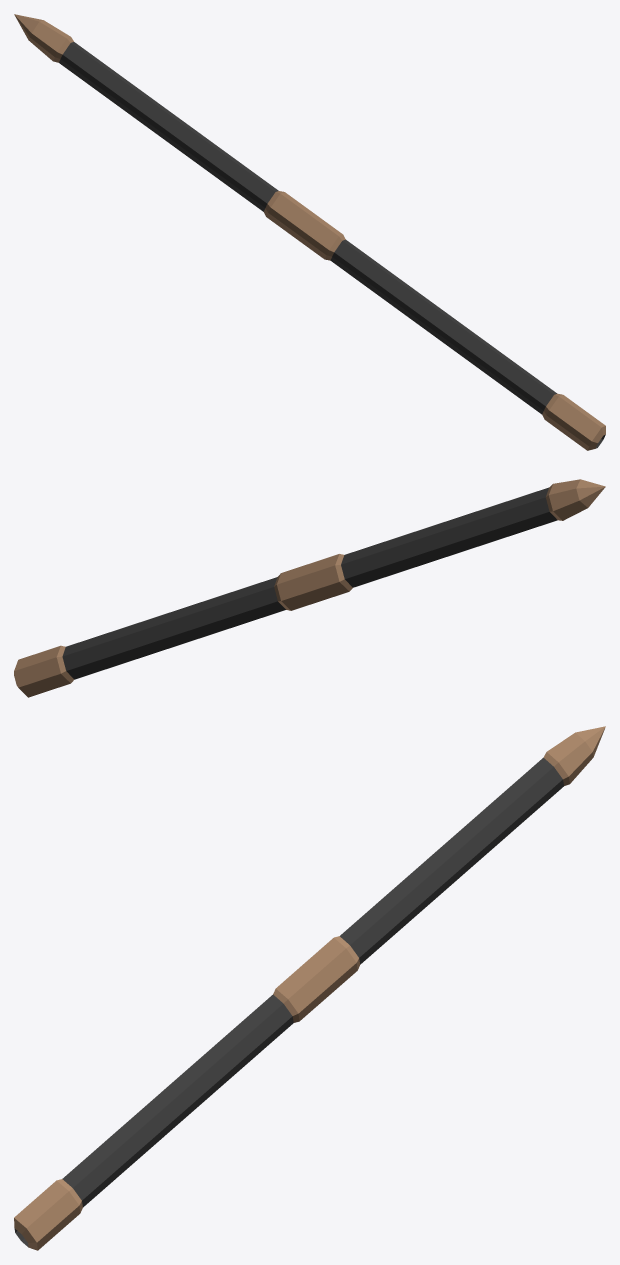
The model's file is RapierScabbard.fbx.
3 views of the same model, one above another, from view 1: azimuth 30°, elevation 25°; view 2: azimuth 210°, elevation 25°; view 3: azimuth 270°, elevation 25° (orthographic). The views are drawn at different scales.
Visible parts, largest first — view 1: RapierScabbard; view 2: RapierScabbard; view 3: RapierScabbard.
Part boxes in pixels (left/top/right/bottom): RapierScabbard: left=14, top=14, right=605, bottom=450; RapierScabbard: left=14, top=479, right=605, bottom=697; RapierScabbard: left=14, top=726, right=605, bottom=1250.
Bounding box in the file's own units: 0.7137 × 1.02 × 0.6714.
